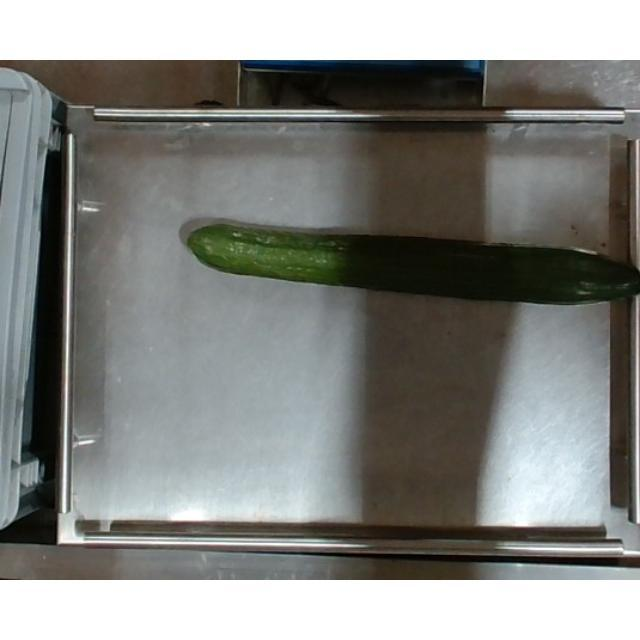cucumber: (186, 217, 640, 307)
